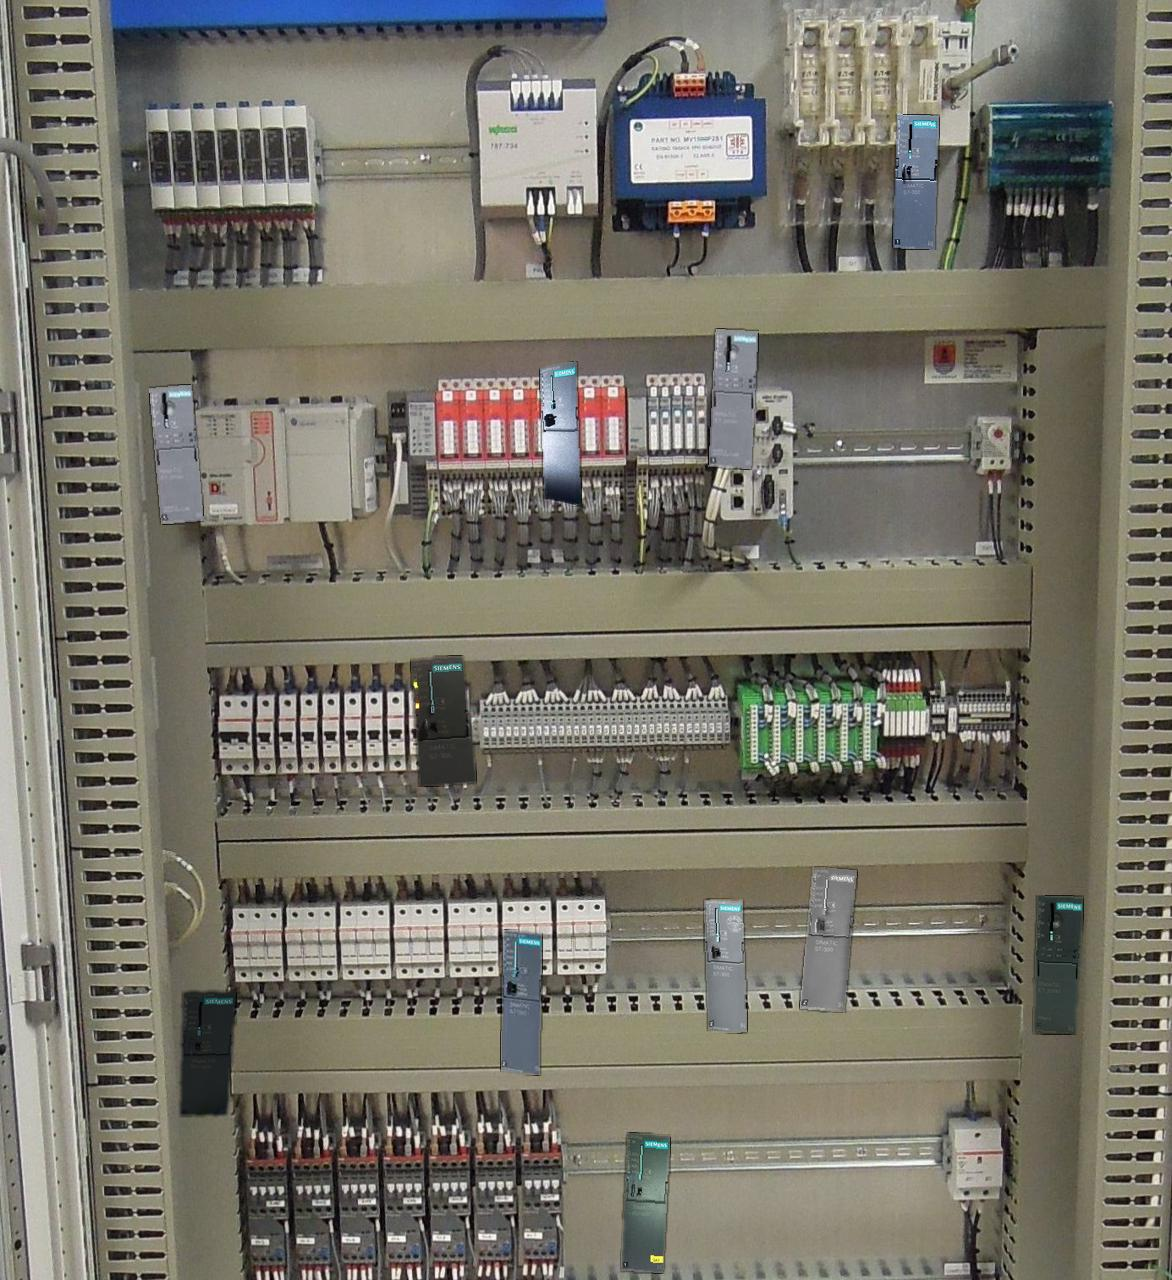Siemens: (411, 656, 475, 786), (800, 867, 856, 1011), (180, 991, 235, 1115), (621, 1133, 670, 1272), (893, 114, 938, 249), (501, 930, 541, 1074), (540, 361, 580, 504), (704, 899, 746, 1032)
